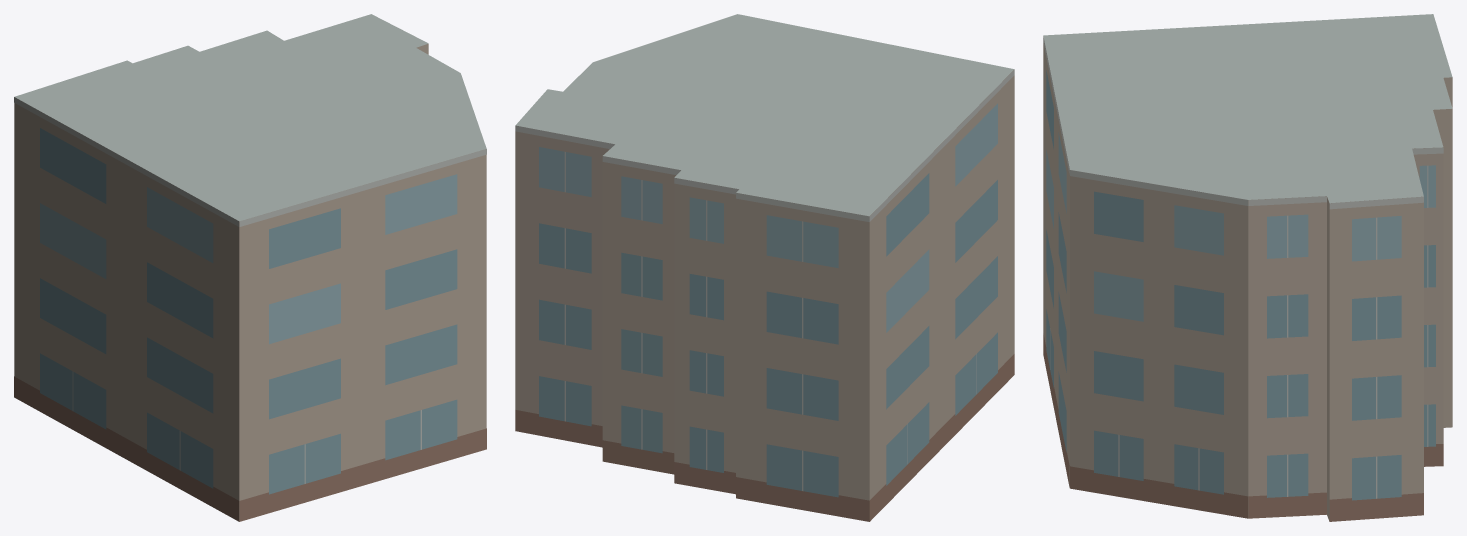
Rendered from survey-upis-32675015.glb.
3 renders of one model, left to right at view 1: azimuth 30°, elevation 25°; view 2: azimuth 150°, elevation 25°; view 3: azimuth 270°, elevation 25°, orthographic. The views are drawn at different scales.
Visible parts, largest first — view 1: survey-upis-32675015.tmp; view 2: survey-upis-32675015.tmp; view 3: survey-upis-32675015.tmp.
Part boxes in pixels (<box>): survey-upis-32675015.tmp: <box>14,14,486,521</box>; survey-upis-32675015.tmp: <box>515,14,1014,521</box>; survey-upis-32675015.tmp: <box>1043,14,1452,521</box>.
Size of the model in its own units: 16.1 by 12.64 by 14.72.
